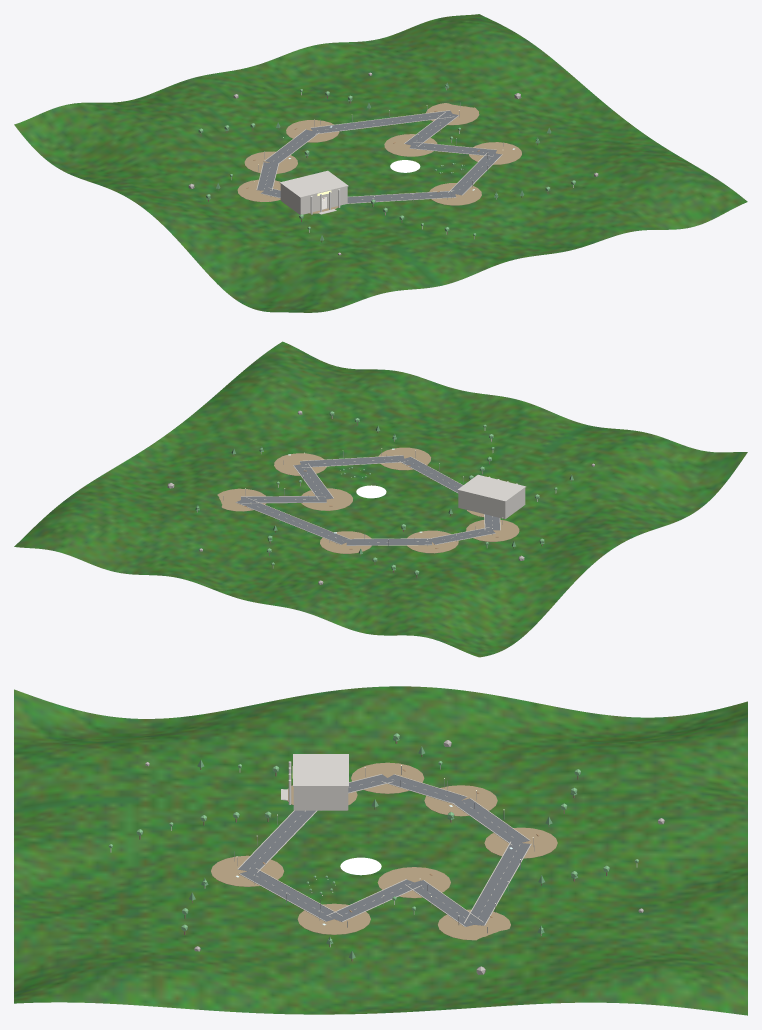
Rendered from station.glb.
The picture shows the model from 3 angles, top to bottom: view 1: azimuth 30°, elevation 25°; view 2: azimuth 150°, elevation 25°; view 3: azimuth 270°, elevation 25°; orthographic projection. The views are drawn at different scales.
Visible parts, largest first — view 1: terrain.grass, vault.roof, road.asphalt.2, road.asphalt.6, oracle.pad, market.pad, war.pad, stadium.pad, road.asphalt.5, forge.pad, pier.pad, club.pad (+3 smaller); view 2: terrain.grass, vault.roof, road.asphalt.2, vault.wall.n, forge.pad, club.pad, market.pad, oracle.pad, road.asphalt.5, war.pad, stadium.pad, pier.pad (+4 smaller); view 3: terrain.grass, vault.roof, road.asphalt.2, road.asphalt.6, vault.wall.e, market.pad, oracle.pad, club.pad, war.pad, stadium.pad, pier.pad, road.asphalt.5 (+6 smaller).
Part boxes in pixels (left/top/right/bottom): terrain.grass: left=14, top=14, right=747, bottom=312; vault.roof: left=279, top=170, right=348, bottom=197; road.asphalt.2: left=311, top=110, right=451, bottom=133; road.asphalt.6: left=347, top=191, right=455, bottom=203; oracle.pad: left=384, top=134, right=437, bottom=156; market.pad: left=469, top=142, right=521, bottom=164; war.pad: left=429, top=183, right=481, bottom=205; stadium.pad: left=286, top=120, right=339, bottom=142; road.asphalt.5: left=451, top=153, right=501, bottom=195; forge.pad: left=244, top=151, right=297, bottom=173; pier.pad: left=426, top=103, right=479, bottom=125; club.pad: left=237, top=179, right=280, bottom=202; terrain.grass: left=14, top=341, right=747, bottom=657; vault.roof: left=457, top=474, right=526, bottom=501; road.asphalt.2: left=236, top=500, right=347, bottom=544; vault.wall.n: left=458, top=491, right=505, bottom=518; forge.pad: left=407, top=530, right=458, bottom=553; club.pad: left=466, top=519, right=519, bottom=541; market.pad: left=274, top=453, right=326, bottom=475; oracle.pad: left=301, top=488, right=352, bottom=510; road.asphalt.5: left=300, top=455, right=404, bottom=466; war.pad: left=378, top=447, right=430, bottom=470; stadium.pad: left=320, top=531, right=371, bottom=553; pier.pad: left=217, top=488, right=266, bottom=511; terrain.grass: left=14, top=686, right=747, bottom=1015; vault.roof: left=293, top=754, right=348, bottom=786; road.asphalt.2: left=471, top=843, right=530, bottom=925; road.asphalt.6: left=238, top=810, right=315, bottom=872; vault.wall.e: left=294, top=787, right=347, bottom=810; market.pad: left=297, top=903, right=370, bottom=934; oracle.pad: left=377, top=867, right=450, bottom=898; club.pad: left=351, top=762, right=424, bottom=793; war.pad: left=211, top=855, right=284, bottom=886; stadium.pad: left=484, top=827, right=557, bottom=858; pier.pad: left=438, top=909, right=510, bottom=940; road.asphalt.5: left=240, top=871, right=333, bottom=921.
Bounding box in the file's own units: 220 × 15.01 × 220.
23 materials, 1 textured.
